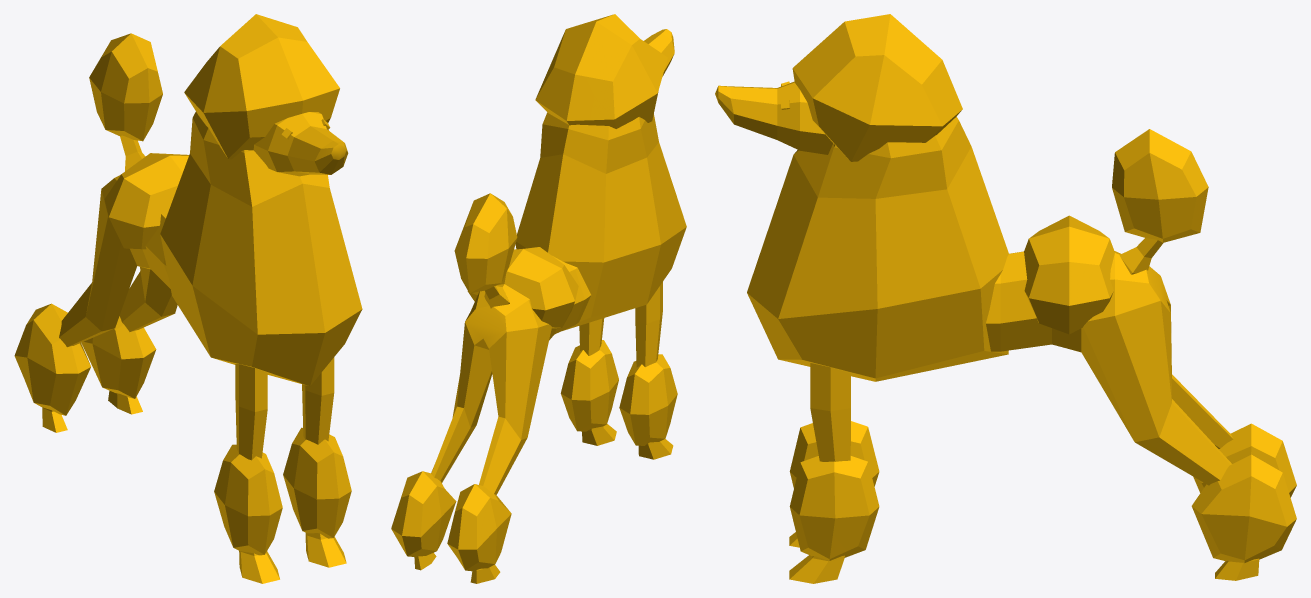
Rendered from upgradeddog-v1.glb.
The picture shows the model from 3 angles, left to right: view 1: azimuth 30°, elevation 25°; view 2: azimuth 150°, elevation 25°; view 3: azimuth 270°, elevation 25°; orthographic projection. The views are drawn at different scales.
Parts seen in each view (by area): view 1: dogmodel; view 2: dogmodel; view 3: dogmodel.
Boxes of the visible parts, x1=… form: dogmodel: x1=14, y1=14, x2=362, y2=583; dogmodel: x1=391, y1=14, x2=686, y2=583; dogmodel: x1=715, y1=14, x2=1296, y2=583.
Size of the model in its own units: 2.05 by 7.35 by 7.12.
